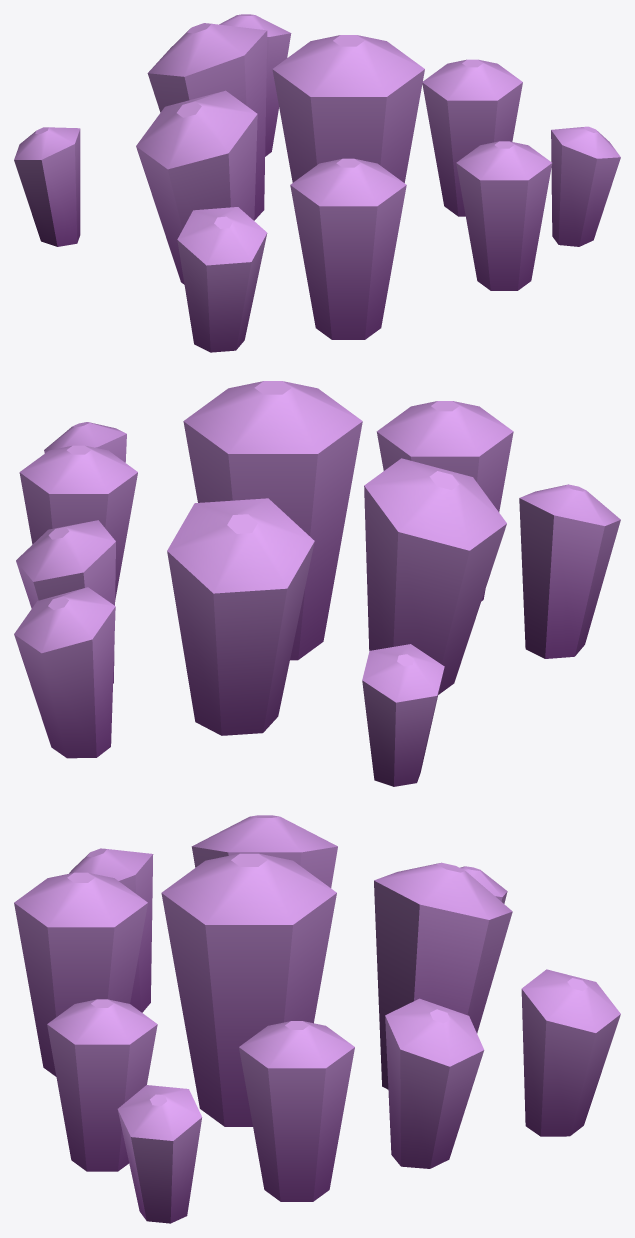
The model's file is CoralReef_02.fbx.
The picture shows the model from 3 angles, top to bottom: view 1: azimuth 30°, elevation 25°; view 2: azimuth 150°, elevation 25°; view 3: azimuth 270°, elevation 25°; orthographic projection. The views are drawn at different scales.
Visible parts, largest first — view 1: CoralReef_02_LOD0; view 2: CoralReef_02_LOD0; view 3: CoralReef_02_LOD0.
Part boxes in pixels (x1,y1,x2,y2): CoralReef_02_LOD0: (14,14,620,352); CoralReef_02_LOD0: (14,381,620,786); CoralReef_02_LOD0: (14,815,620,1223).
Size of what is drawn, in the model's own units: 0.2882 by 0.1279 by 0.283.
